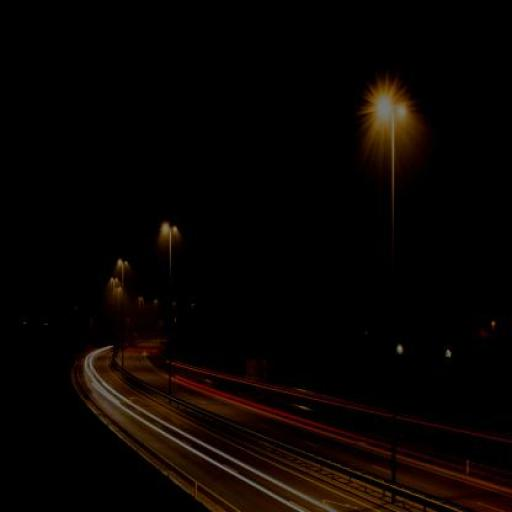street light: (377, 101, 405, 506), (162, 224, 178, 406), (117, 258, 127, 376)
